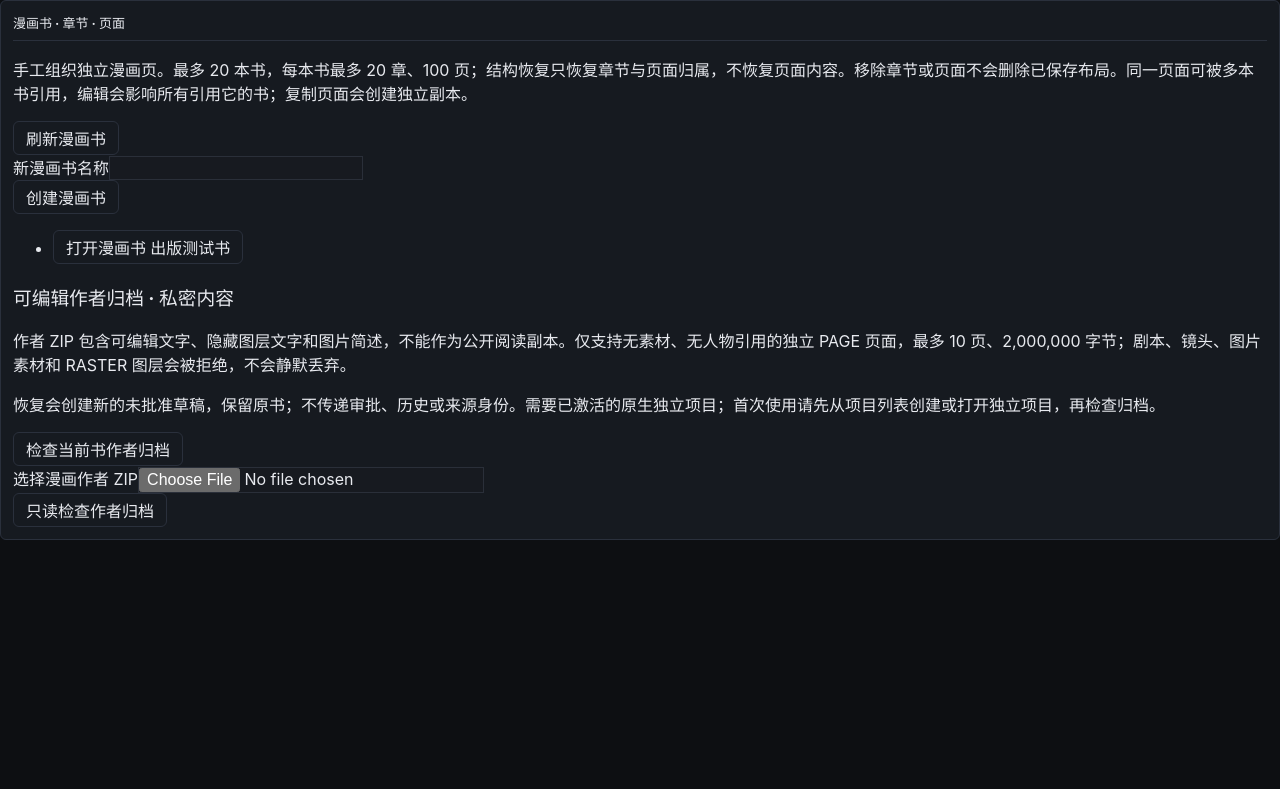
Test case: rejects a preflight with mismatched book_version
This screenshot has width=1280, height=789.
Click the button "打开漫画书 出版测试书".
click(148, 247)  # box x1=53 y1=230 x2=243 y2=264
(page scrolled)
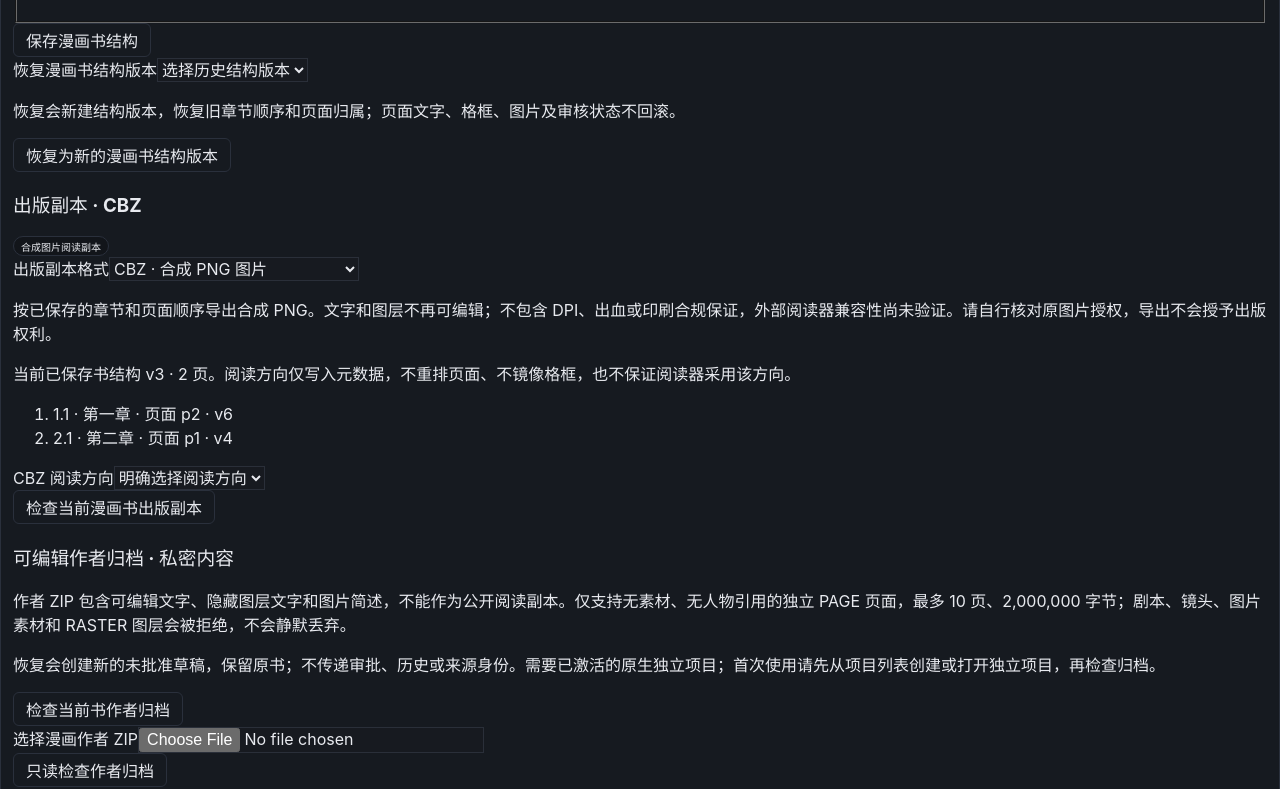
Now the element named "漫画书 CBZ 导出" is shown, box x1=13 y1=190 x2=1267 y2=524
Select "从右到左（RTL）" in the dropdown labelled "CBZ 阅读方向" at (189, 478), box x1=114 y1=466 x2=265 y2=490
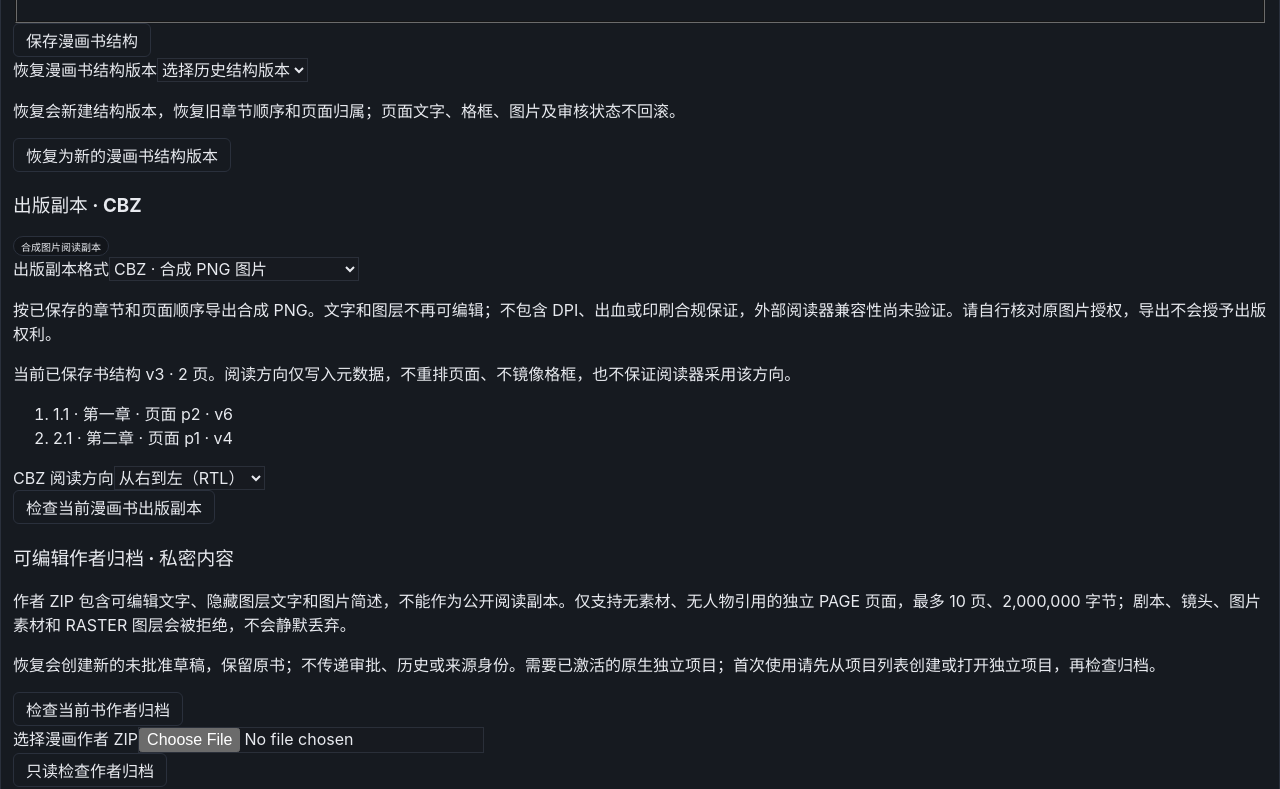
Click the button "检查当前漫画书出版副本".
click(114, 507)  # box x1=13 y1=490 x2=215 y2=524
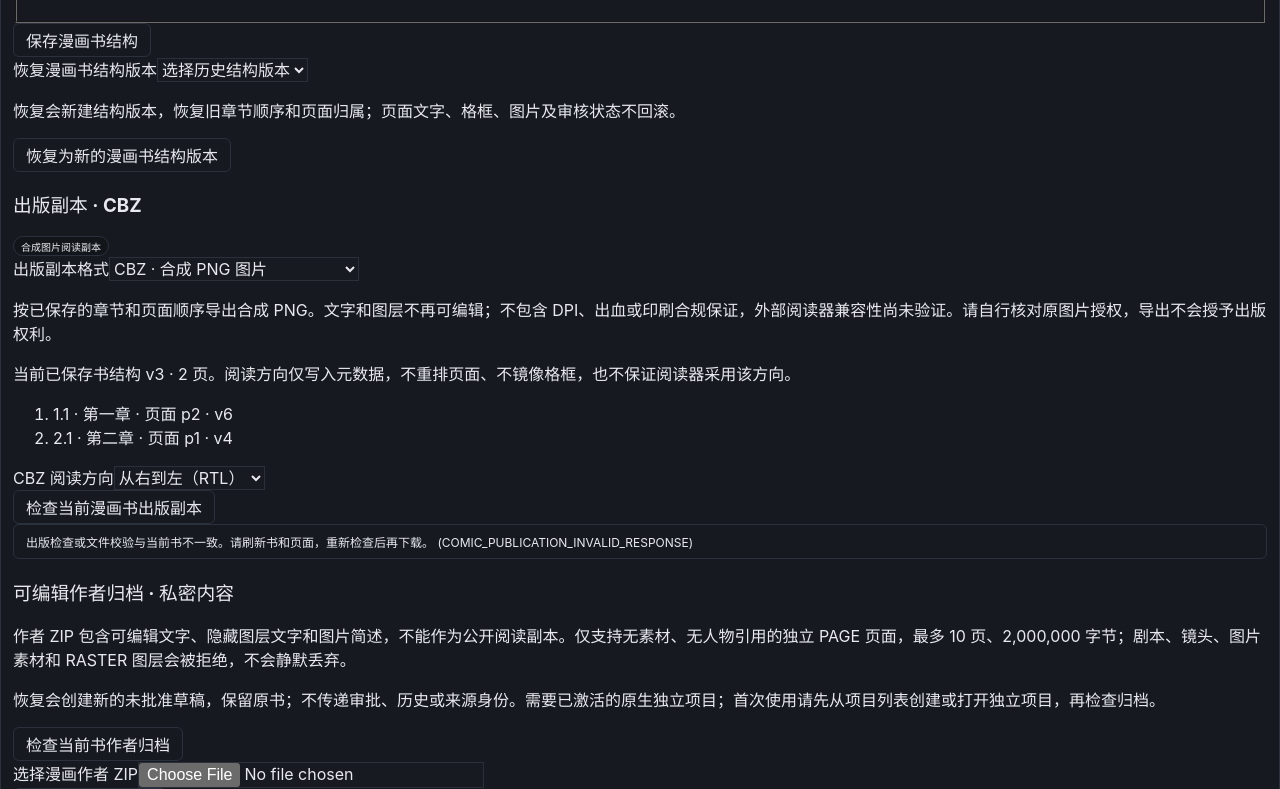
Now the text "出版检查或文件校验与当前书不一致。请刷新书和页面，重新检查后再下载。 (COMIC_PUBLICATION_INVALID_RESPONSE)" is shown, box x1=13 y1=524 x2=1267 y2=559
